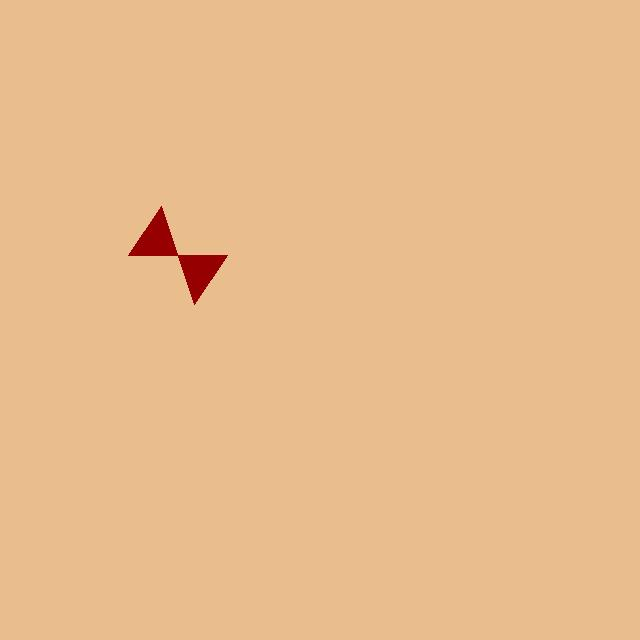laceration: (128, 206, 227, 304)
